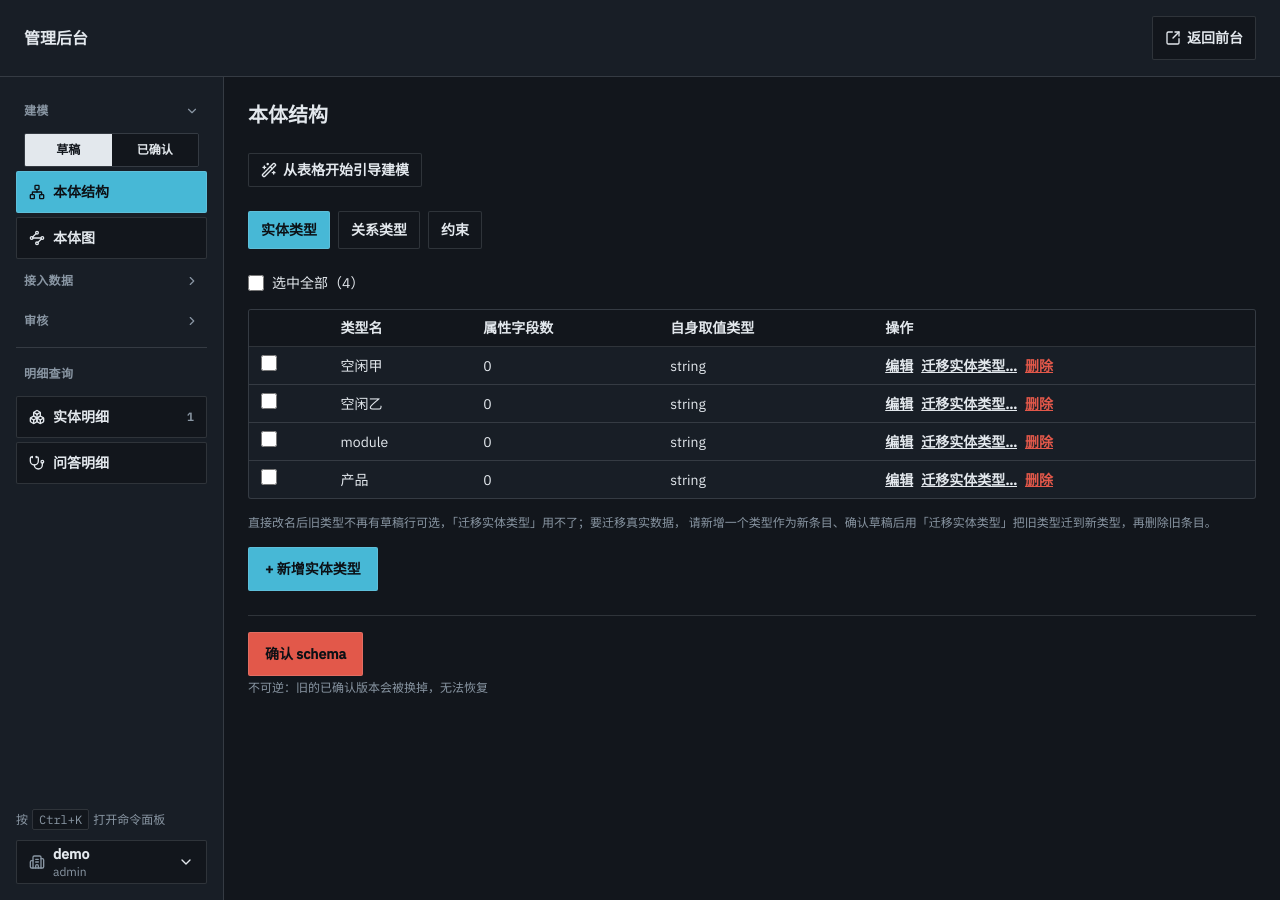
Test case: 实体类型的批量删除 › 表头复选框选中整张表，删掉的和被挡住的分开报，挡路的逐条点名
This screenshot has width=1280, height=900.
Click the checkbox named "选中全部 4 条实体类型".
click(256, 283)  # box top-left (248, 275), bottom-right (264, 291)
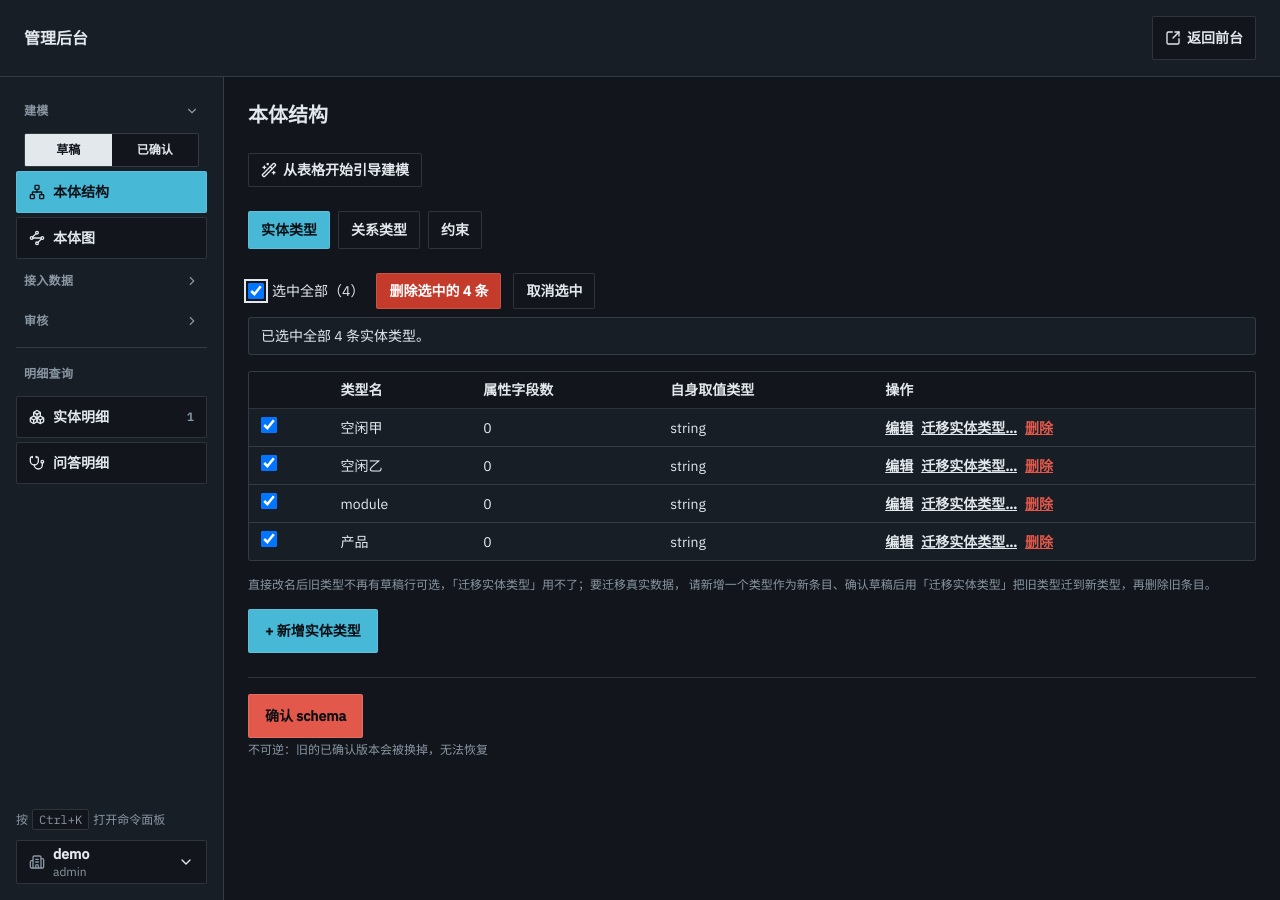
Click the button "删除选中的 4 条".
click(439, 291)  # box top-left (376, 273), bottom-right (501, 309)
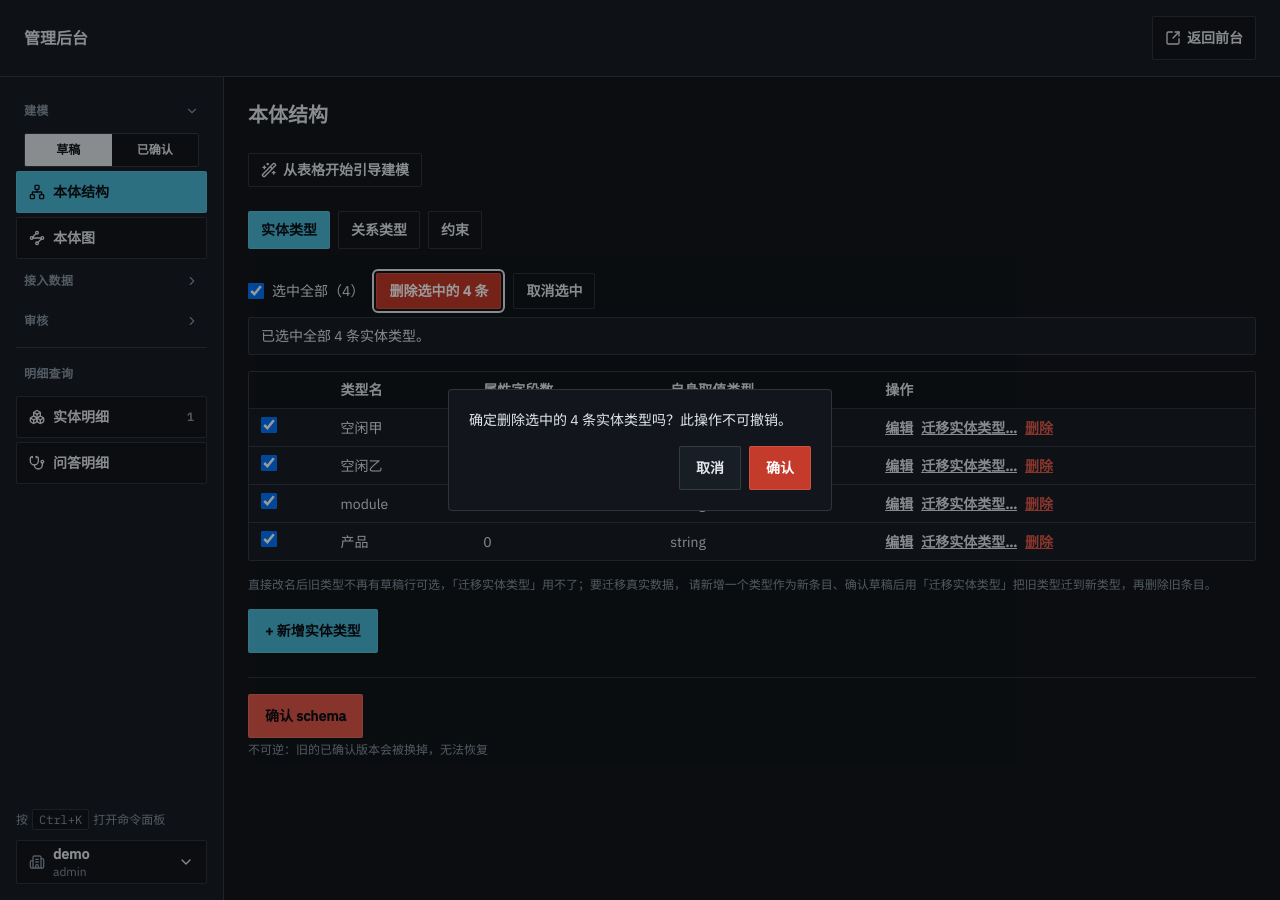
Click the button "确认".
click(780, 468)  # box top-left (749, 446), bottom-right (811, 490)
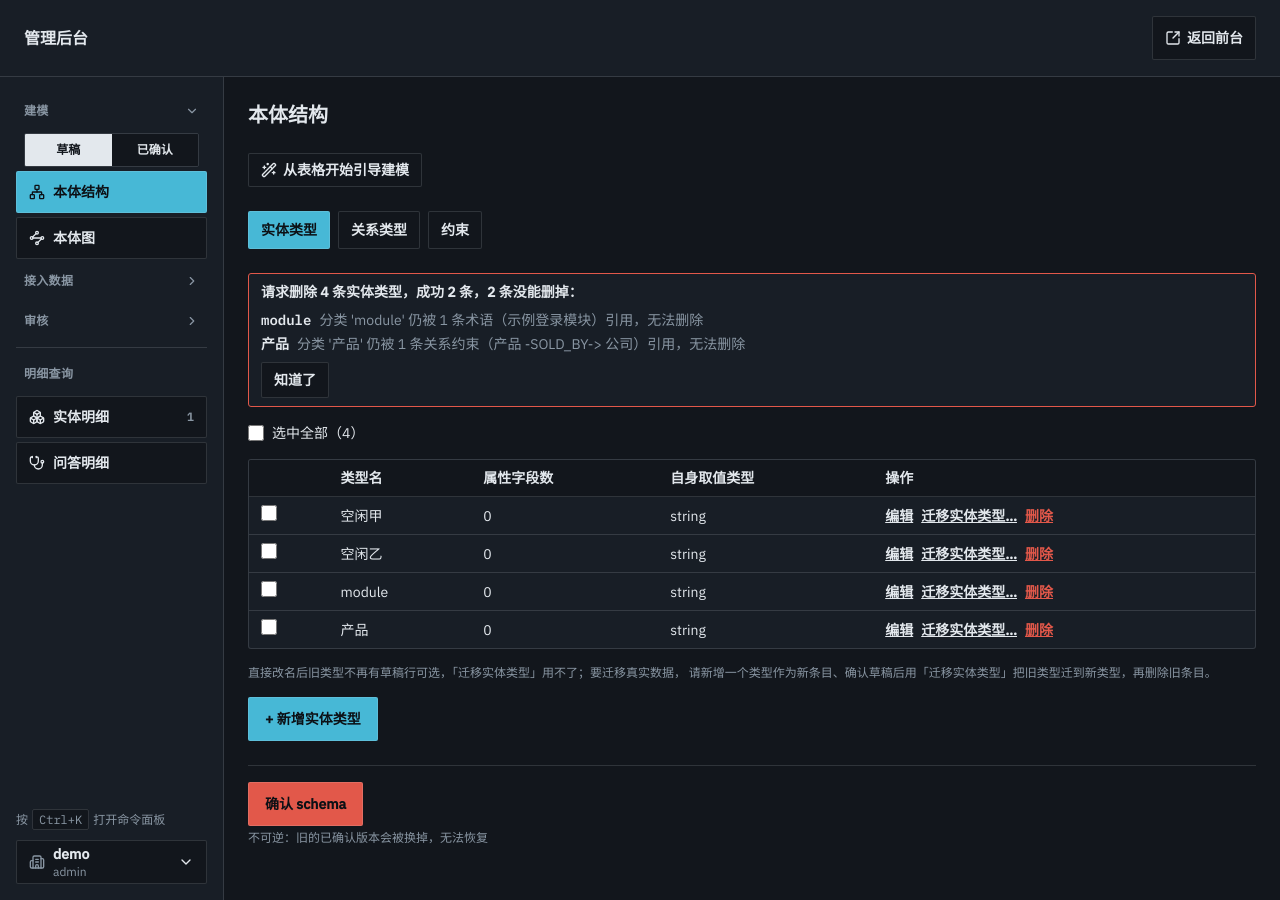
Expected: the message with test id "bulk-delete-outcome" shows "4", top-left (261, 283), bottom-right (583, 301)
Expected: the message with test id "bulk-delete-outcome" shows "2", top-left (261, 283), bottom-right (583, 301)
Expected: the message with test id "bulk-delete-outcome" shows "示例登录模块", top-left (319, 311), bottom-right (703, 329)
